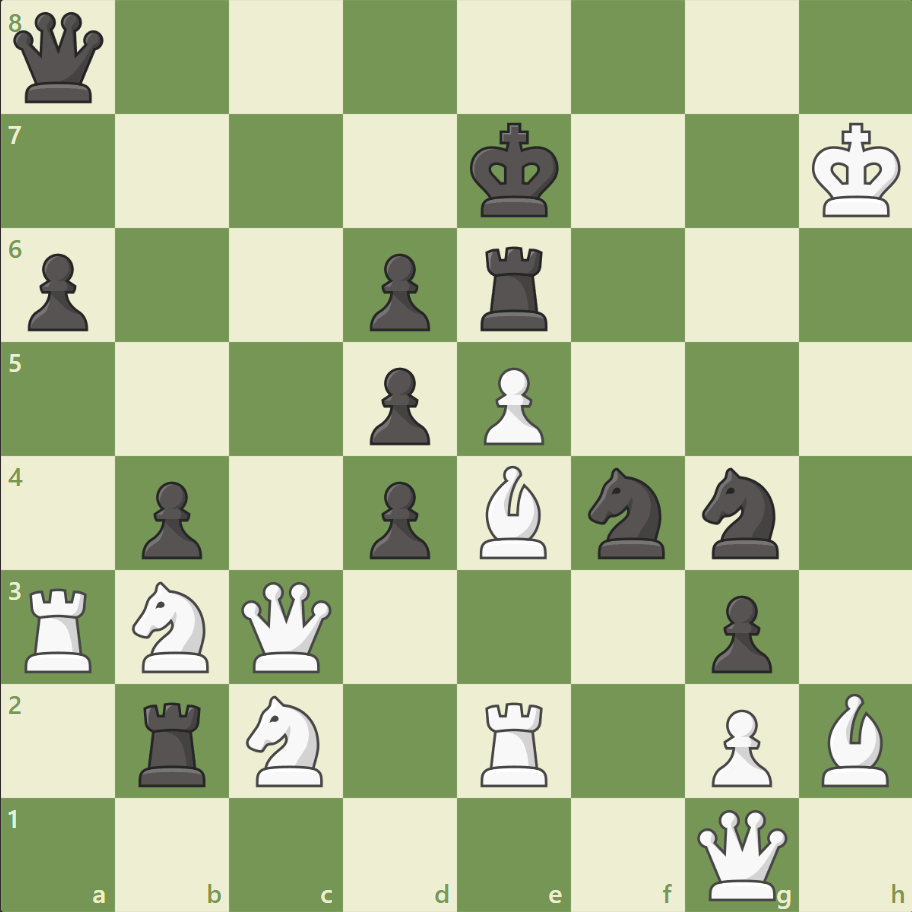B: (471, 460, 555, 563), (812, 687, 896, 790)
K: (806, 117, 906, 225)
N: (124, 575, 222, 677), (238, 688, 335, 791)
P: (474, 359, 549, 450), (701, 700, 776, 791)
Q: (237, 576, 336, 676), (691, 804, 790, 903)
R: (19, 579, 102, 676), (473, 693, 556, 790)
k: (465, 117, 565, 225)
n: (579, 461, 676, 564), (692, 461, 789, 564)
p: (20, 246, 95, 337), (133, 473, 208, 564), (701, 586, 776, 677), (361, 246, 435, 337), (361, 359, 435, 450), (361, 473, 435, 564)
q: (10, 9, 109, 108)
r: (473, 239, 556, 336), (133, 693, 215, 790)
